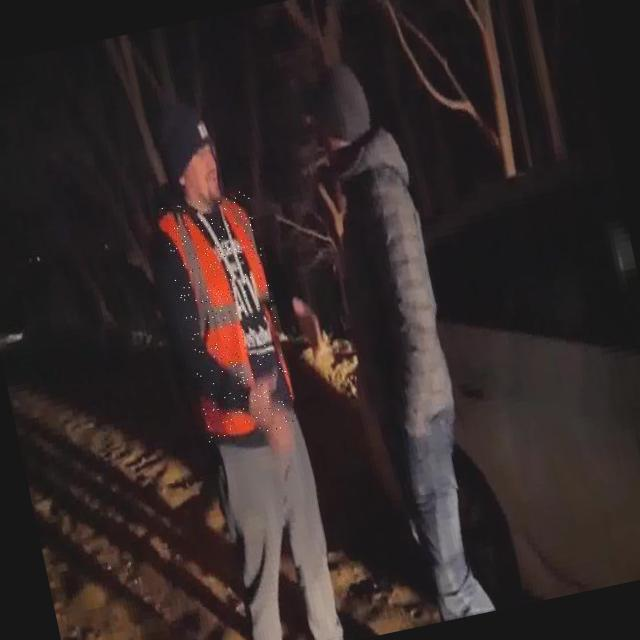no-helmet: (141, 96, 246, 218), (296, 58, 402, 166)
no-vest: (313, 157, 480, 456)
vest: (158, 189, 300, 443)
